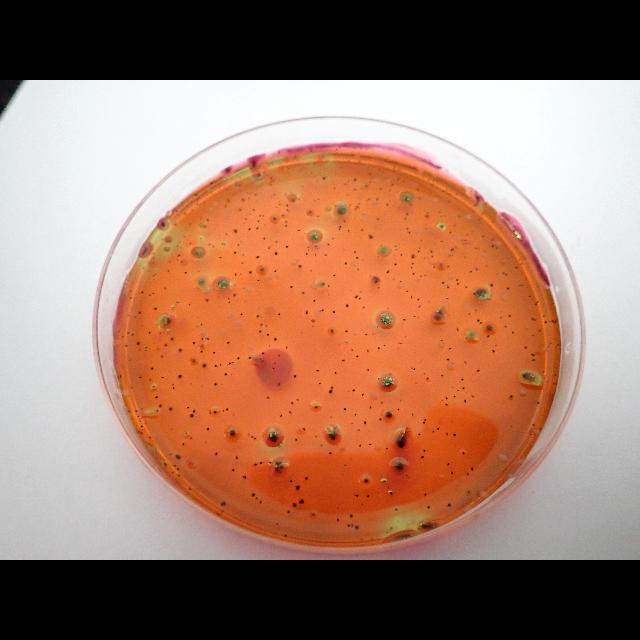colony: (472, 288, 492, 302), (519, 369, 537, 383), (266, 426, 280, 444), (378, 312, 394, 326), (395, 433, 407, 449), (326, 427, 338, 441), (432, 308, 444, 322), (274, 460, 286, 472), (382, 375, 394, 387), (216, 278, 228, 290), (394, 461, 406, 472), (159, 316, 171, 326), (197, 277, 207, 287), (402, 192, 412, 202), (193, 248, 205, 256), (384, 410, 394, 418), (310, 232, 320, 240), (228, 429, 238, 437), (337, 206, 347, 214), (379, 246, 388, 254), (485, 324, 493, 332), (328, 328, 336, 334), (160, 222, 168, 228), (298, 498, 304, 504), (354, 524, 360, 530), (388, 490, 394, 496), (220, 500, 226, 506), (310, 318, 316, 324), (255, 314, 261, 320), (201, 363, 207, 369), (191, 358, 197, 364), (272, 216, 278, 222), (175, 454, 181, 460), (410, 253, 416, 259), (296, 484, 300, 490), (292, 502, 296, 508), (426, 504, 430, 510), (363, 420, 367, 426), (452, 432, 456, 438), (328, 389, 334, 393), (312, 298, 316, 304), (277, 311, 281, 317), (344, 328, 348, 334), (274, 336, 278, 342), (228, 361, 234, 365), (178, 374, 182, 380), (150, 366, 154, 372), (144, 346, 148, 352), (233, 228, 237, 234), (320, 282, 326, 286), (314, 404, 318, 410), (169, 406, 173, 412), (155, 394, 159, 400), (259, 268, 265, 272), (490, 282, 494, 288), (439, 224, 445, 228), (308, 210, 314, 214), (207, 426, 210, 432), (305, 476, 309, 480), (289, 479, 293, 483), (287, 510, 291, 514), (311, 512, 315, 516), (349, 514, 353, 518), (347, 524, 351, 528), (366, 494, 370, 498), (364, 478, 368, 482), (394, 507, 398, 511), (390, 526, 394, 530), (423, 492, 427, 496), (420, 455, 424, 459), (422, 448, 426, 452), (368, 442, 372, 446), (358, 443, 362, 447), (368, 405, 372, 409), (343, 407, 347, 411), (335, 425, 339, 429), (303, 427, 307, 431), (328, 451, 332, 455), (294, 438, 298, 442), (259, 461, 263, 465), (254, 463, 258, 467), (242, 475, 246, 479), (251, 492, 255, 496), (258, 500, 262, 504), (447, 462, 451, 466), (467, 490, 471, 494), (462, 451, 466, 455), (422, 421, 426, 425), (445, 402, 449, 406), (444, 396, 448, 400), (388, 372, 392, 376), (352, 389, 356, 393), (361, 393, 365, 397), (330, 385, 334, 389), (289, 284, 293, 288), (332, 310, 336, 314), (344, 340, 348, 344), (258, 330, 262, 334), (266, 333, 270, 337), (236, 356, 240, 360), (224, 372, 228, 376), (196, 324, 200, 328), (170, 337, 174, 341), (178, 348, 182, 352), (161, 354, 165, 358), (148, 378, 152, 382), (128, 358, 132, 362), (136, 341, 140, 345), (138, 310, 142, 314), (154, 307, 158, 311), (205, 298, 209, 302), (176, 300, 180, 304), (233, 251, 237, 255), (238, 207, 242, 211), (248, 227, 252, 231), (241, 198, 245, 202), (314, 253, 318, 257), (344, 262, 348, 266), (298, 264, 302, 268), (345, 304, 349, 308), (293, 374, 297, 378), (277, 382, 281, 386), (288, 410, 292, 414), (509, 394, 513, 398), (536, 401, 540, 405), (532, 358, 536, 362), (531, 353, 535, 357), (524, 345, 528, 349), (544, 320, 548, 324), (534, 302, 538, 306), (528, 294, 532, 298), (508, 314, 512, 318), (476, 369, 480, 373), (277, 444, 281, 448), (177, 473, 181, 477), (163, 462, 167, 466), (140, 424, 144, 428), (134, 409, 138, 413), (158, 404, 162, 408), (190, 414, 194, 418), (249, 270, 253, 274), (233, 293, 237, 297), (256, 255, 260, 259), (398, 280, 402, 284), (418, 305, 422, 309), (455, 278, 459, 282), (450, 248, 454, 252), (278, 203, 282, 207), (257, 173, 261, 177), (322, 176, 326, 180), (353, 178, 357, 182), (504, 272, 508, 276), (506, 286, 510, 290), (440, 338, 444, 342), (514, 266, 518, 270), (519, 283, 523, 287), (402, 318, 406, 322), (364, 332, 368, 336), (374, 280, 378, 284), (188, 487, 192, 491), (336, 518, 339, 522), (396, 408, 399, 412), (268, 461, 272, 464), (215, 452, 218, 456), (255, 496, 258, 500), (451, 471, 454, 475), (466, 472, 469, 476), (471, 467, 474, 471), (436, 427, 439, 431), (464, 398, 466, 404), (441, 374, 444, 378), (351, 348, 354, 352), (248, 356, 252, 359), (227, 341, 230, 345), (200, 343, 203, 347), (138, 376, 142, 379), (125, 344, 128, 348), (122, 335, 125, 339), (208, 242, 212, 245), (200, 224, 202, 230), (252, 208, 255, 212), (247, 190, 250, 194), (284, 225, 288, 228), (326, 284, 329, 288), (266, 396, 270, 399), (542, 371, 546, 374), (554, 318, 556, 324), (446, 358, 449, 362), (177, 467, 180, 471), (148, 436, 152, 439), (192, 409, 195, 413), (235, 273, 238, 277), (284, 246, 290, 248), (361, 228, 364, 232), (386, 270, 389, 274), (411, 294, 413, 300), (416, 298, 419, 302), (446, 285, 449, 289), (446, 264, 449, 268), (421, 238, 424, 242), (476, 318, 479, 322), (486, 334, 489, 338), (456, 327, 459, 331), (491, 238, 494, 242), (398, 342, 404, 344), (205, 224, 208, 228), (152, 252, 156, 255), (426, 376, 429, 379), (175, 222, 178, 225), (187, 406, 190, 409), (356, 494, 358, 498), (386, 530, 388, 534), (447, 504, 451, 506), (358, 428, 360, 432), (378, 418, 382, 420), (315, 434, 317, 438), (236, 456, 238, 460), (232, 468, 234, 472), (276, 522, 278, 526), (284, 534, 286, 538), (446, 432, 448, 436), (432, 430, 434, 434), (418, 432, 420, 436), (424, 418, 426, 422), (412, 412, 414, 416), (472, 394, 474, 398), (367, 368, 369, 372), (318, 382, 322, 384), (334, 372, 338, 374), (341, 359, 345, 361), (356, 354, 358, 358), (367, 349, 369, 353), (306, 311, 308, 315), (286, 346, 288, 350), (278, 354, 280, 358), (274, 361, 276, 365), (272, 366, 274, 370), (258, 358, 262, 360), (214, 364, 216, 368), (164, 344, 168, 346), (172, 383, 174, 387), (173, 386, 175, 390), (152, 386, 156, 388), (148, 332, 152, 334), (127, 332, 131, 334), (158, 332, 162, 334), (126, 314, 130, 316), (164, 286, 166, 290), (148, 294, 152, 296), (142, 290, 144, 294), (130, 296, 132, 300), (152, 278, 156, 280), (153, 274, 155, 278), (142, 267, 146, 269), (188, 274, 190, 278), (189, 302, 191, 306), (181, 260, 183, 264), (168, 261, 172, 263), (219, 256, 223, 258), (224, 242, 226, 246), (168, 238, 170, 242), (188, 223, 192, 225), (207, 218, 209, 222), (262, 237, 266, 239), (287, 208, 289, 212), (324, 254, 328, 256), (314, 246, 318, 248), (354, 296, 358, 298), (358, 298, 362, 300), (322, 308, 324, 312), (301, 292, 305, 294), (240, 312, 242, 316), (296, 398, 298, 402), (290, 402, 294, 404), (280, 414, 282, 418), (532, 423, 534, 427), (538, 330, 542, 332), (543, 314, 545, 318), (552, 319, 554, 323), (534, 318, 536, 322), (536, 300, 538, 304), (500, 316, 502, 320), (504, 326, 508, 328), (512, 331, 514, 335), (532, 334, 534, 338), (492, 350, 496, 352), (495, 344, 497, 348), (280, 442, 284, 444), (170, 452, 172, 456), (182, 442, 184, 446), (190, 436, 192, 440), (174, 464, 176, 468), (156, 408, 158, 412), (136, 415, 140, 417), (145, 422, 147, 426), (226, 407, 228, 411), (228, 296, 230, 300), (228, 300, 230, 304), (256, 280, 260, 282), (273, 270, 277, 272), (274, 252, 278, 254), (306, 214, 310, 216), (316, 216, 320, 218), (338, 226, 342, 228), (342, 220, 346, 222), (368, 234, 372, 236), (356, 256, 358, 260), (394, 264, 398, 266), (394, 245, 398, 247), (394, 249, 398, 251), (412, 262, 414, 266), (412, 272, 414, 276), (446, 298, 450, 300), (420, 274, 422, 278), (430, 250, 432, 254), (386, 203, 388, 207), (424, 256, 426, 260), (497, 272, 499, 276), (475, 308, 477, 312), (468, 312, 470, 316), (448, 348, 452, 350), (502, 258, 504, 262), (412, 315, 416, 317), (360, 290, 362, 294), (378, 286, 380, 290), (210, 181, 212, 185), (120, 375, 122, 379), (140, 432, 144, 434), (371, 538, 374, 540), (396, 520, 399, 522), (462, 386, 464, 389), (456, 390, 459, 392), (411, 367, 414, 369), (376, 378, 379, 380), (378, 346, 380, 349), (212, 352, 215, 354), (192, 342, 195, 344), (205, 337, 208, 339), (197, 260, 200, 262), (200, 237, 202, 240), (212, 245, 215, 247), (222, 242, 224, 245), (226, 232, 228, 235), (176, 245, 178, 248), (245, 218, 248, 220), (256, 227, 258, 230), (259, 215, 261, 218), (248, 197, 250, 200), (282, 215, 284, 218), (327, 242, 329, 245), (407, 476, 409, 479), (464, 361, 466, 364), (461, 378, 464, 380), (254, 436, 256, 439), (250, 436, 253, 438), (185, 432, 188, 434), (214, 411, 216, 414), (411, 267, 414, 269), (456, 282, 459, 284), (431, 255, 433, 258), (418, 250, 420, 253), (408, 230, 410, 233), (406, 227, 408, 230), (358, 202, 360, 205), (301, 185, 303, 188), (344, 182, 346, 185), (448, 255, 450, 258), (466, 336, 468, 339), (491, 245, 493, 248), (496, 247, 498, 250), (448, 200, 450, 203), (450, 230, 452, 233), (441, 240, 444, 242), (354, 494, 356, 496), (361, 538, 363, 540), (384, 479, 386, 481), (386, 447, 388, 449), (381, 402, 383, 404), (400, 400, 402, 402), (354, 414, 356, 416), (331, 416, 333, 418), (320, 444, 322, 446), (344, 464, 346, 466), (222, 510, 224, 512), (454, 396, 456, 398), (413, 368, 415, 370), (316, 370, 318, 372), (262, 352, 264, 354), (262, 360, 264, 362), (220, 364, 222, 366), (200, 350, 202, 352), (201, 338, 203, 340), (207, 338, 209, 340), (201, 324, 203, 326), (162, 376, 164, 378), (132, 334, 134, 336), (142, 325, 144, 327), (134, 316, 136, 318), (152, 292, 154, 294), (130, 290, 132, 292), (154, 273, 156, 275), (168, 270, 170, 272), (185, 272, 187, 274), (172, 306, 174, 308), (172, 308, 174, 310), (197, 270, 199, 272), (178, 254, 180, 256), (242, 254, 244, 256), (242, 262, 244, 264), (237, 244, 239, 246), (184, 236, 186, 238), (258, 220, 260, 222), (262, 215, 264, 217), (254, 194, 256, 196), (286, 204, 288, 206), (285, 221, 287, 223), (298, 230, 300, 232), (304, 233, 306, 235), (332, 238, 334, 240), (306, 253, 308, 255), (307, 247, 309, 249), (317, 247, 319, 249), (334, 274, 336, 276), (310, 270, 312, 272), (363, 306, 365, 308), (319, 310, 321, 312), (265, 324, 267, 326), (260, 324, 262, 326), (549, 321, 551, 323), (532, 318, 534, 320), (548, 346, 550, 348), (452, 387, 454, 389), (351, 422, 353, 424), (171, 471, 173, 473), (128, 410, 130, 412), (222, 410, 224, 412), (209, 412, 211, 414), (214, 384, 216, 386), (268, 247, 270, 249), (276, 241, 278, 243), (338, 228, 340, 230), (348, 230, 350, 232), (370, 236, 372, 238), (354, 251, 356, 253), (400, 254, 402, 256), (406, 290, 408, 292), (442, 282, 444, 284), (465, 286, 467, 288), (470, 271, 472, 273), (476, 268, 478, 270), (433, 266, 435, 268), (406, 213, 408, 215), (404, 218, 406, 220), (376, 198, 378, 200), (368, 198, 370, 200), (356, 206, 358, 208), (349, 204, 351, 206), (354, 208, 356, 210), (318, 198, 320, 200), (314, 200, 316, 202), (275, 206, 277, 208), (380, 244, 382, 246), (480, 322, 482, 324), (464, 257, 466, 259), (475, 247, 477, 249), (482, 235, 484, 237), (465, 239, 467, 241), (466, 234, 468, 236), (436, 222, 438, 224), (427, 212, 429, 214), (502, 272, 504, 274), (377, 326, 379, 328), (383, 344, 385, 346), (357, 268, 359, 270), (176, 259, 178, 261), (372, 333, 373, 335), (260, 266, 262, 266)
